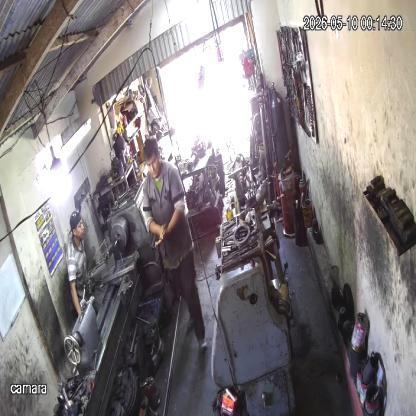sin_lentes: (144, 156, 160, 170)
